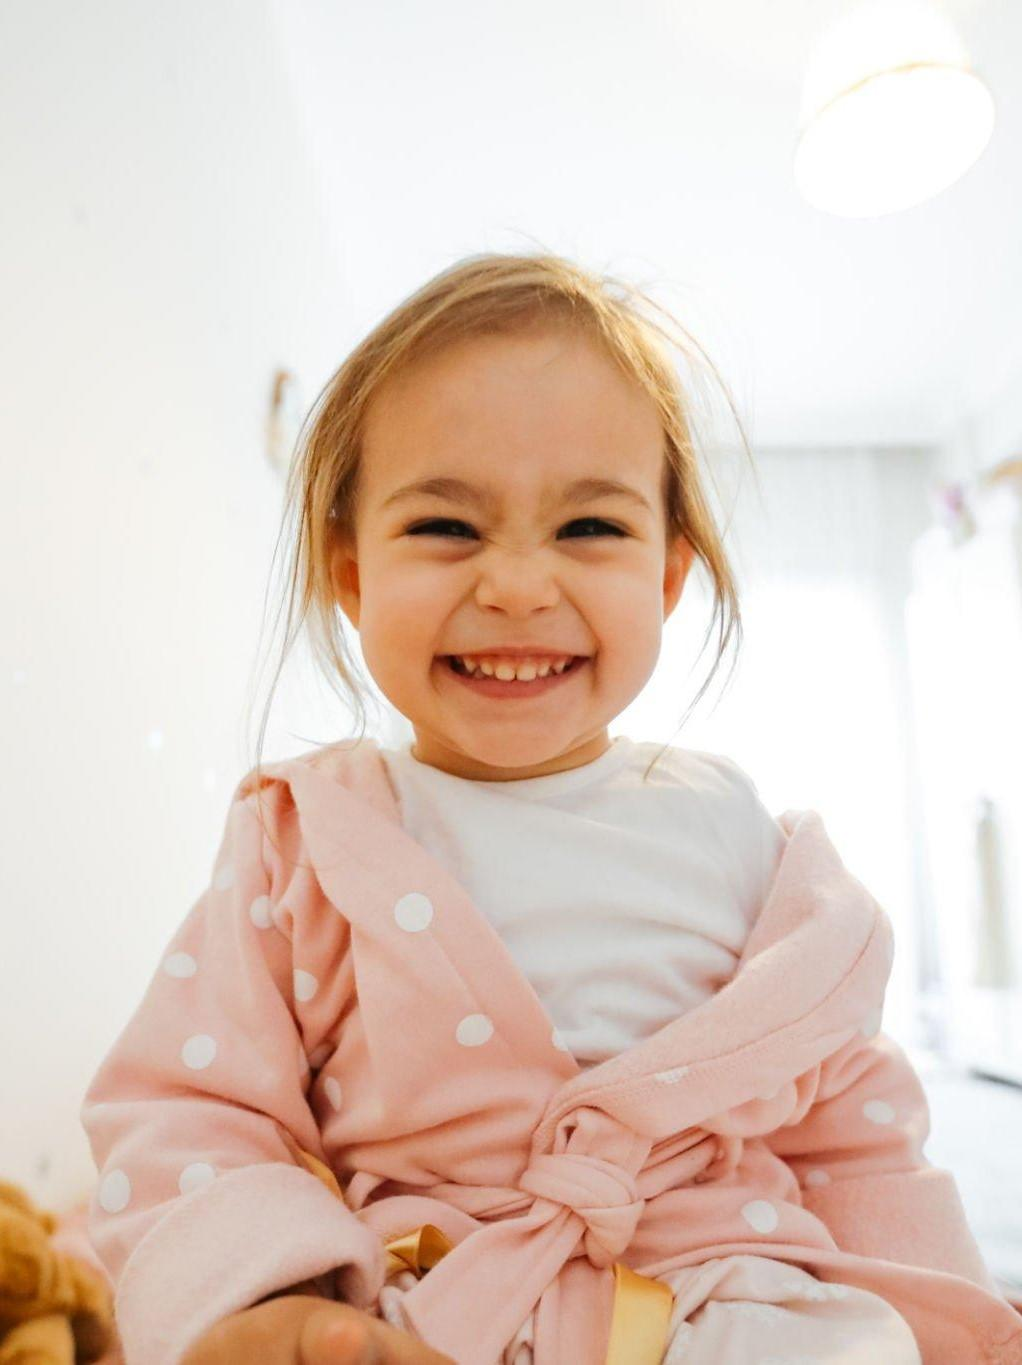Healthy: (323, 335, 702, 799)
